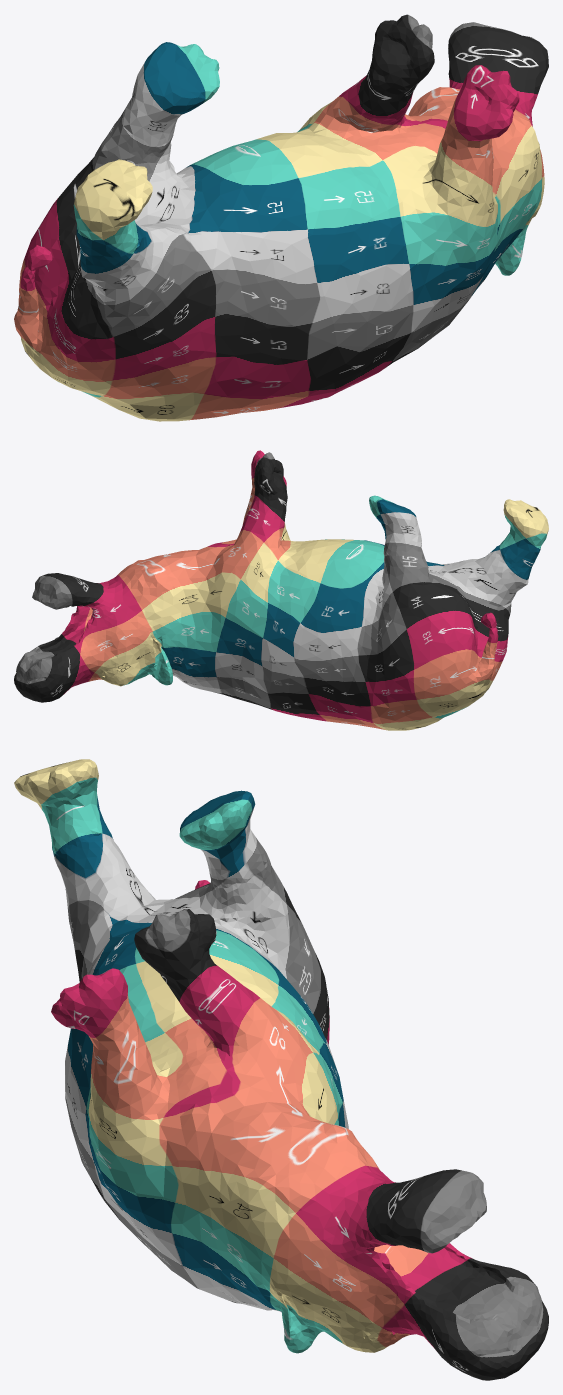
The model's file is hippo_04-hippo_02.obj.
The picture shows the model from 3 angles, top to bottom: view 1: azimuth 30°, elevation 25°; view 2: azimuth 150°, elevation 25°; view 3: azimuth 270°, elevation 25°; orthographic projection. The views are drawn at different scales.
Visible parts, largest first — view 1: hippo_04-hippo_02_export; view 2: hippo_04-hippo_02_export; view 3: hippo_04-hippo_02_export.
Part boxes in pixels (left/top/right/bottom): hippo_04-hippo_02_export: left=14, top=14, right=548, bottom=421; hippo_04-hippo_02_export: left=14, top=450, right=548, bottom=730; hippo_04-hippo_02_export: left=14, top=759, right=548, bottom=1380.
Size of the model in its own units: 0.8747 by 0.4839 by 0.5882.
